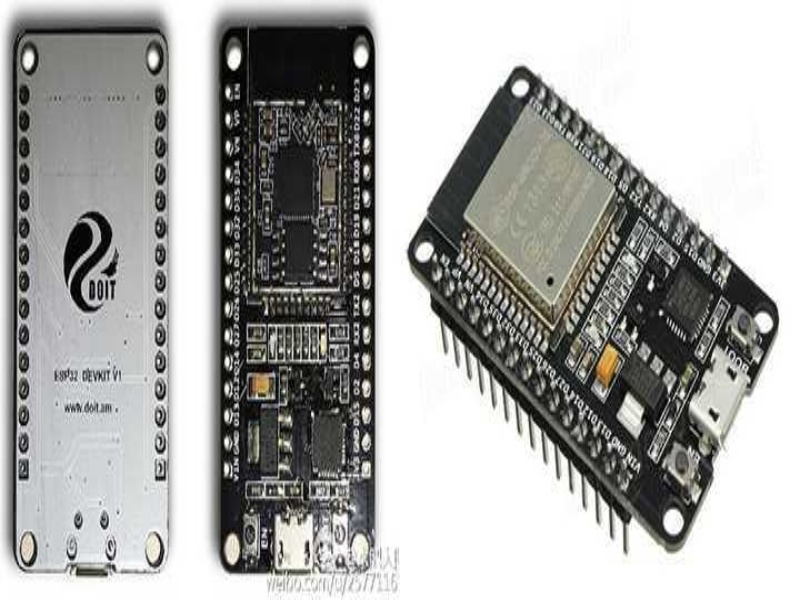esp32: (396, 32, 734, 553), (202, 16, 382, 585)
